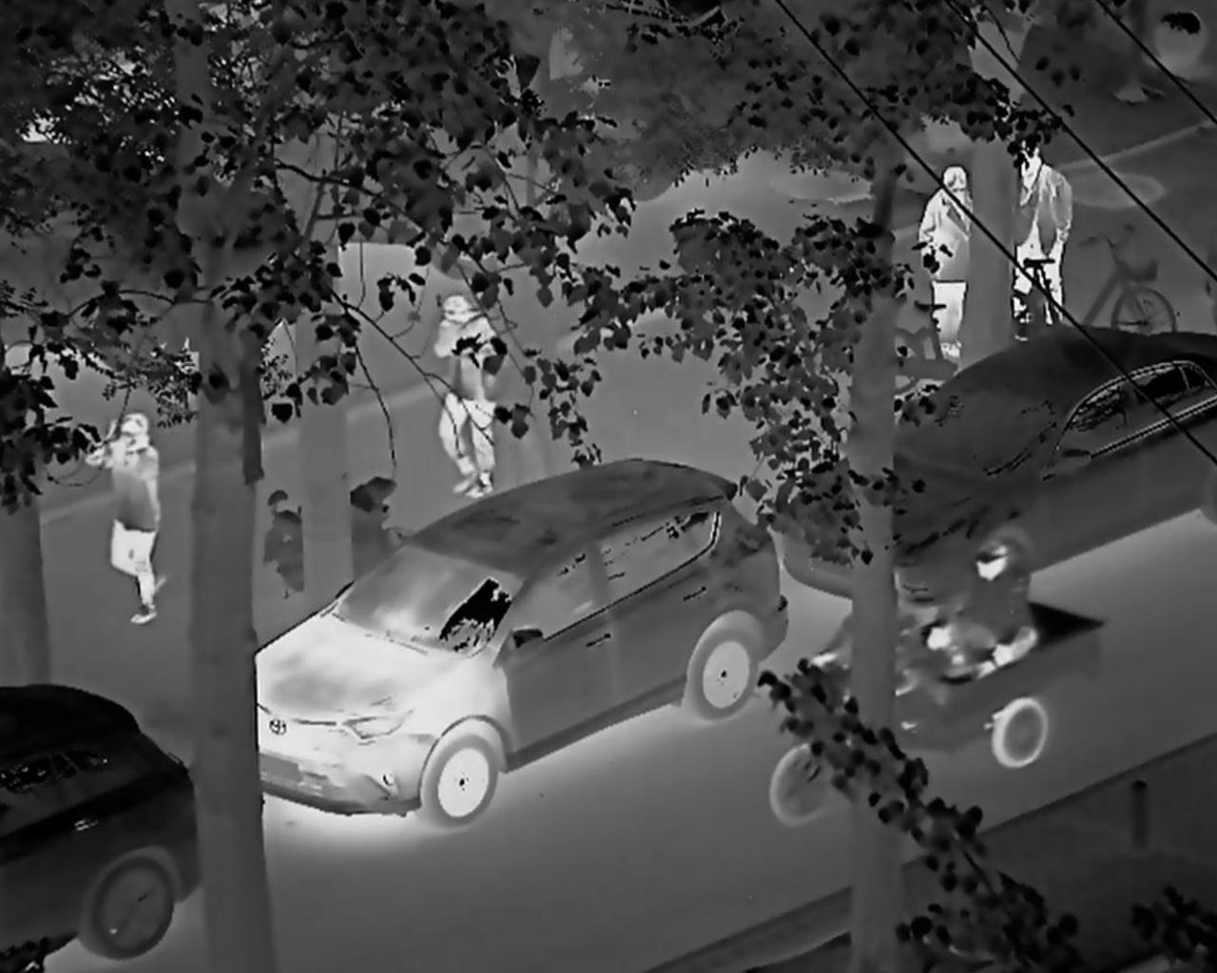person: (396, 294, 526, 512), (82, 400, 171, 632), (919, 523, 1046, 685), (914, 162, 983, 347), (1017, 123, 1079, 325)
